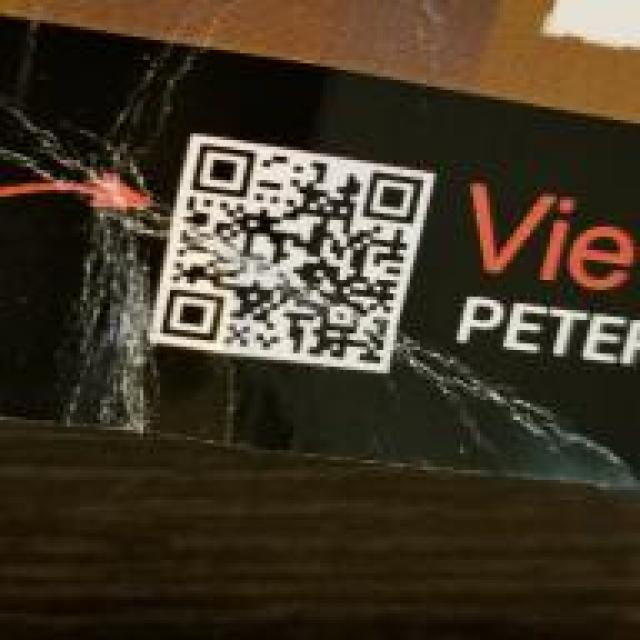QR_CODE: (146, 134, 426, 374)
